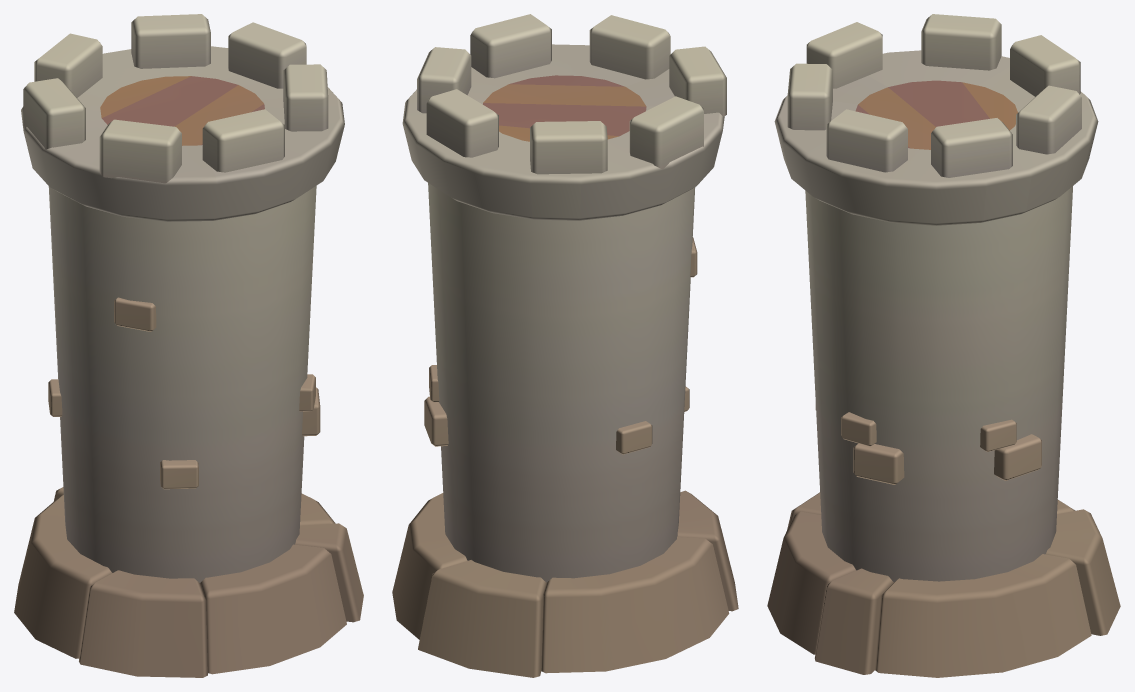
The model's file is Tower_V2.glb.
The picture shows the model from 3 angles, left to right: view 1: azimuth 30°, elevation 25°; view 2: azimuth 150°, elevation 25°; view 3: azimuth 270°, elevation 25°; orthographic projection.
Visible parts, largest first — view 1: ct_town_tower_2; view 2: ct_town_tower_2; view 3: ct_town_tower_2.
Boxes of the visible parts, x1,y1,x2,y2 form: ct_town_tower_2: [14, 14, 363, 677]; ct_town_tower_2: [392, 14, 738, 677]; ct_town_tower_2: [767, 14, 1120, 677].
Bounding box in the file's own units: 5.86 × 10 × 6.08.
Materials: 2 (2 with a texture image).
